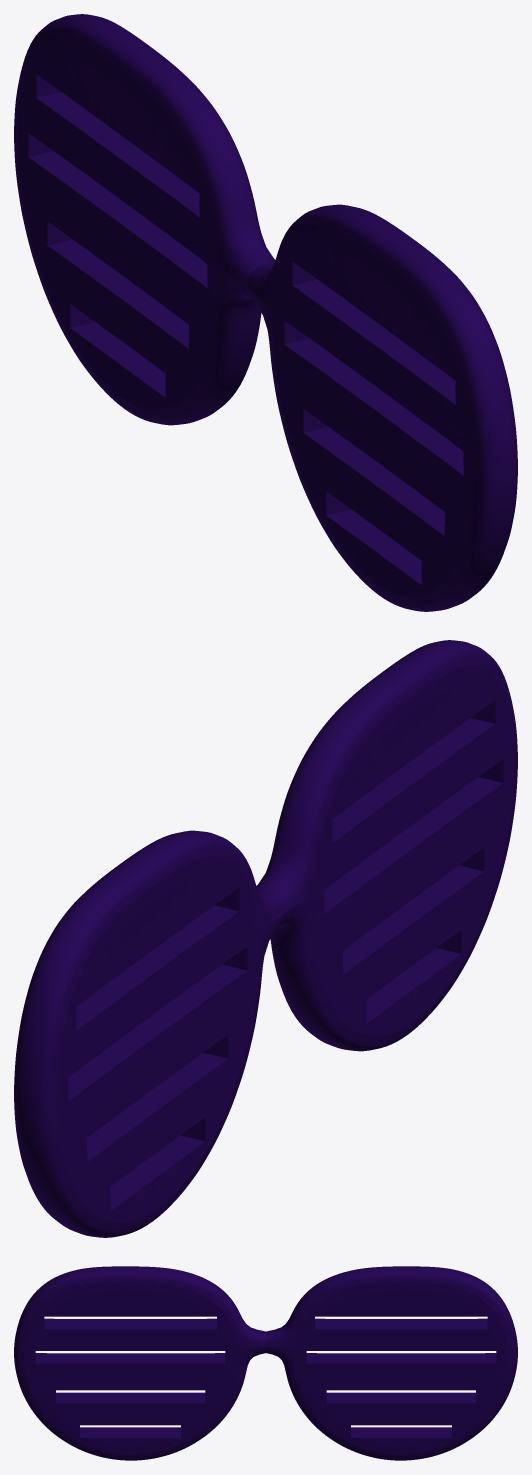
File: monad-glass.gltf
The picture shows the model from 3 angles, top to bottom: view 1: azimuth 30°, elevation 25°; view 2: azimuth 150°, elevation 25°; view 3: azimuth 270°, elevation 25°; orthographic projection. The views are drawn at different scales.
Visible parts, largest first — view 1: glass; view 2: glass; view 3: glass.
Boxes of the visible parts, x1,y1,x2,y2 form: glass: (14, 14, 517, 611); glass: (14, 640, 517, 1237); glass: (14, 1266, 517, 1460).
Bounding box in the file's own units: 0.00861 × 0.0697 × 0.1671.
